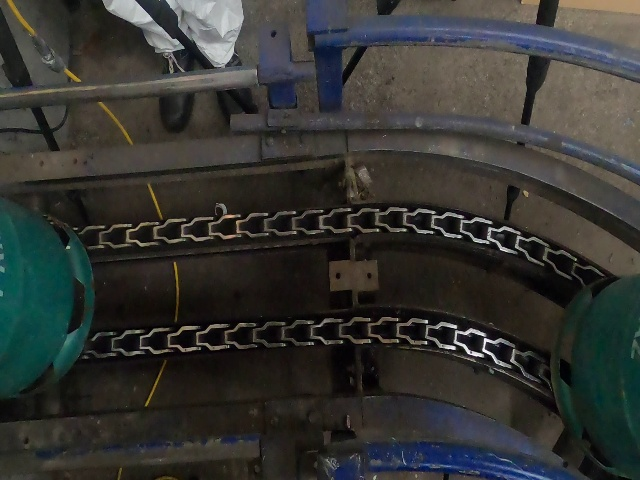gas_bottle: (0, 7, 638, 476)
